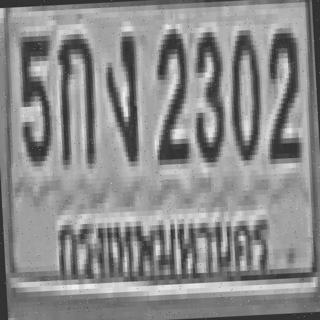A01: (54, 29, 97, 165)
A07: (101, 26, 140, 163)
N00: (225, 25, 261, 156)
N02: (262, 23, 303, 159), (151, 24, 189, 160)
N03: (189, 27, 225, 158)
N05: (16, 31, 54, 162)
P04: (54, 201, 280, 300)
